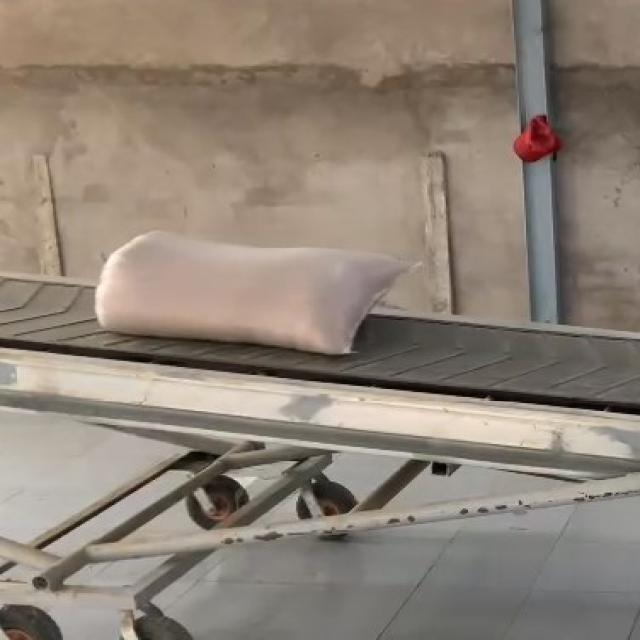gunny_bag: (95, 232, 405, 354)
